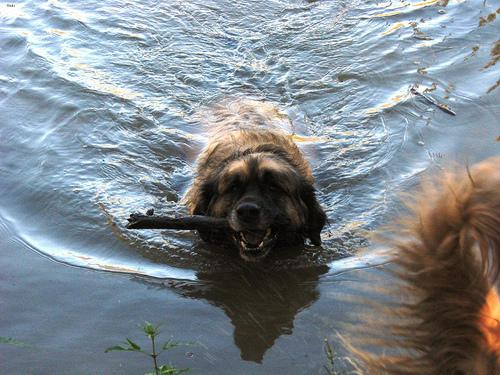dog-leonberger: (192, 150, 324, 260)
